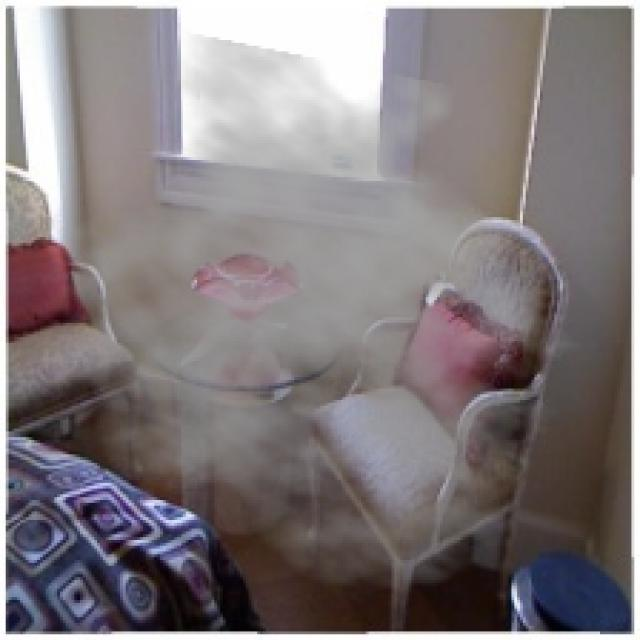smoke: (37, 32, 603, 594)
